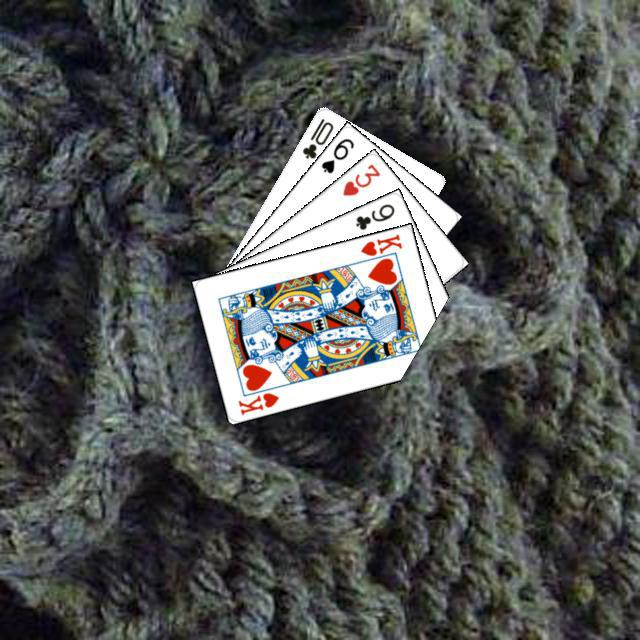10c: (297, 113, 335, 161)
3h: (338, 159, 382, 198)
6s: (316, 133, 356, 175)
9c: (350, 199, 396, 232)
Kh: (354, 229, 404, 265), (233, 388, 281, 417)
